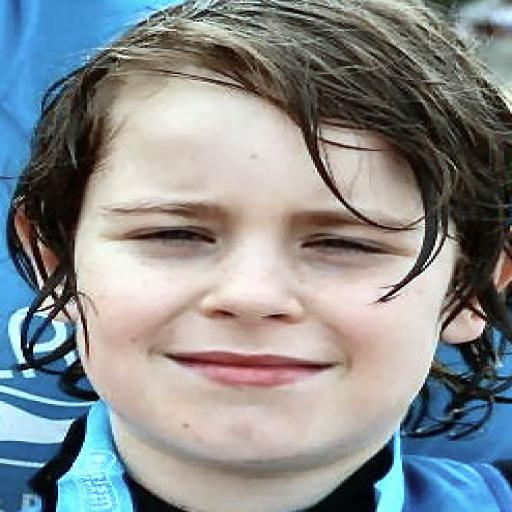Autism: (14, 12, 512, 506)
